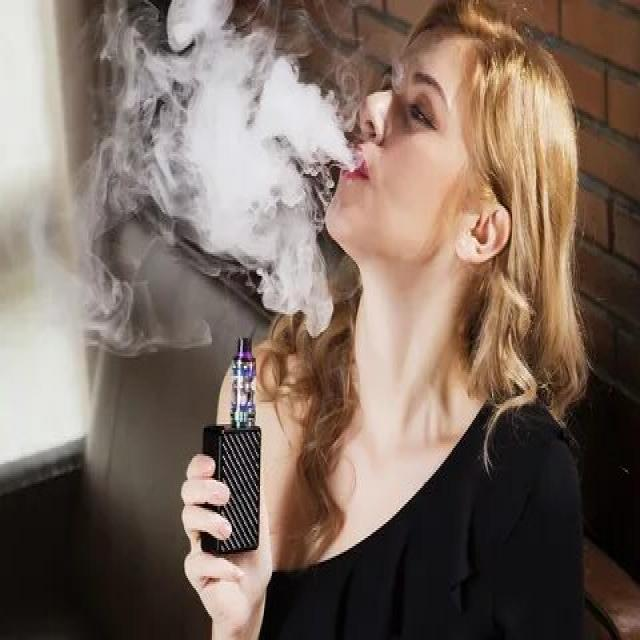smoke: (203, 330, 264, 560)
